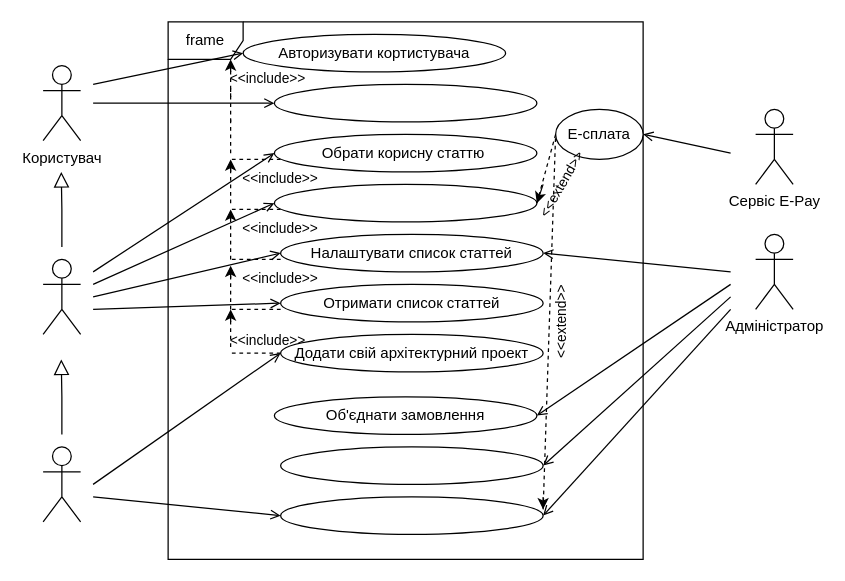
Image size: 845x581. Some labels were removed from this diagram. Here are the shapes that lost their labels. From the top down, the centre of each, then its label:
At (x=405, y=102): "Ознайомитися зі списком статтей".
At (x=405, y=202): "Придбати підписку".
At (x=61, y=296): "Архітектор".
At (x=61, y=484): "Автор".
At (x=411, y=465): "Сформувати тип підписки".
At (x=411, y=515): "Отримати кошти".
